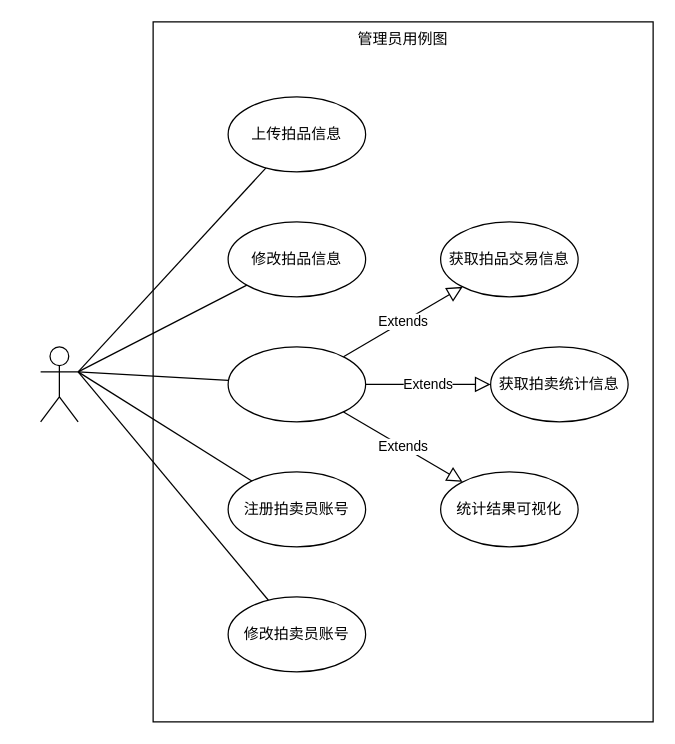
Some shapes in this 675 by 744 pixel diagram are drawn without their labels. Here are the shapes that lost their labels. From the top down, the box of each, then its label:
(39, 346, 78, 422): 系统管理员
(227, 346, 366, 422): 获取统计信息
